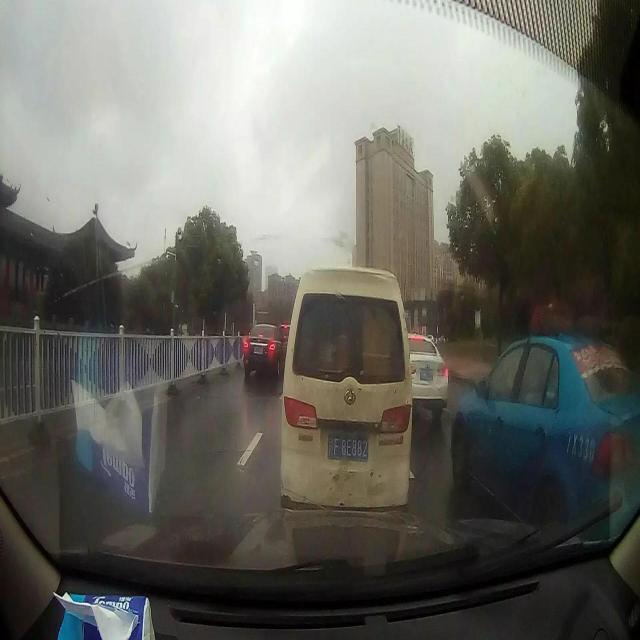car: (450, 331, 640, 548), (278, 266, 413, 520), (399, 331, 448, 422), (243, 322, 284, 378)
